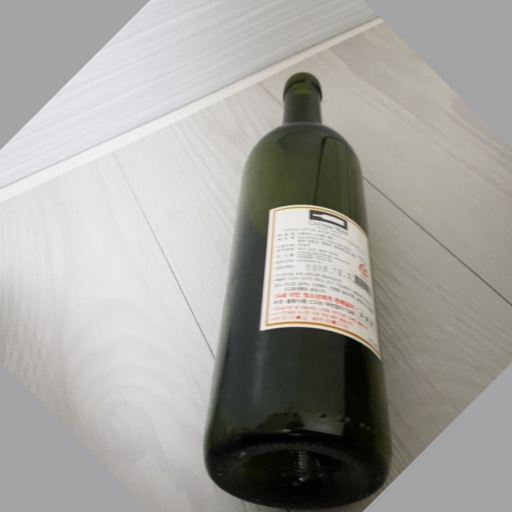Glass_2: (193, 71, 396, 511)
